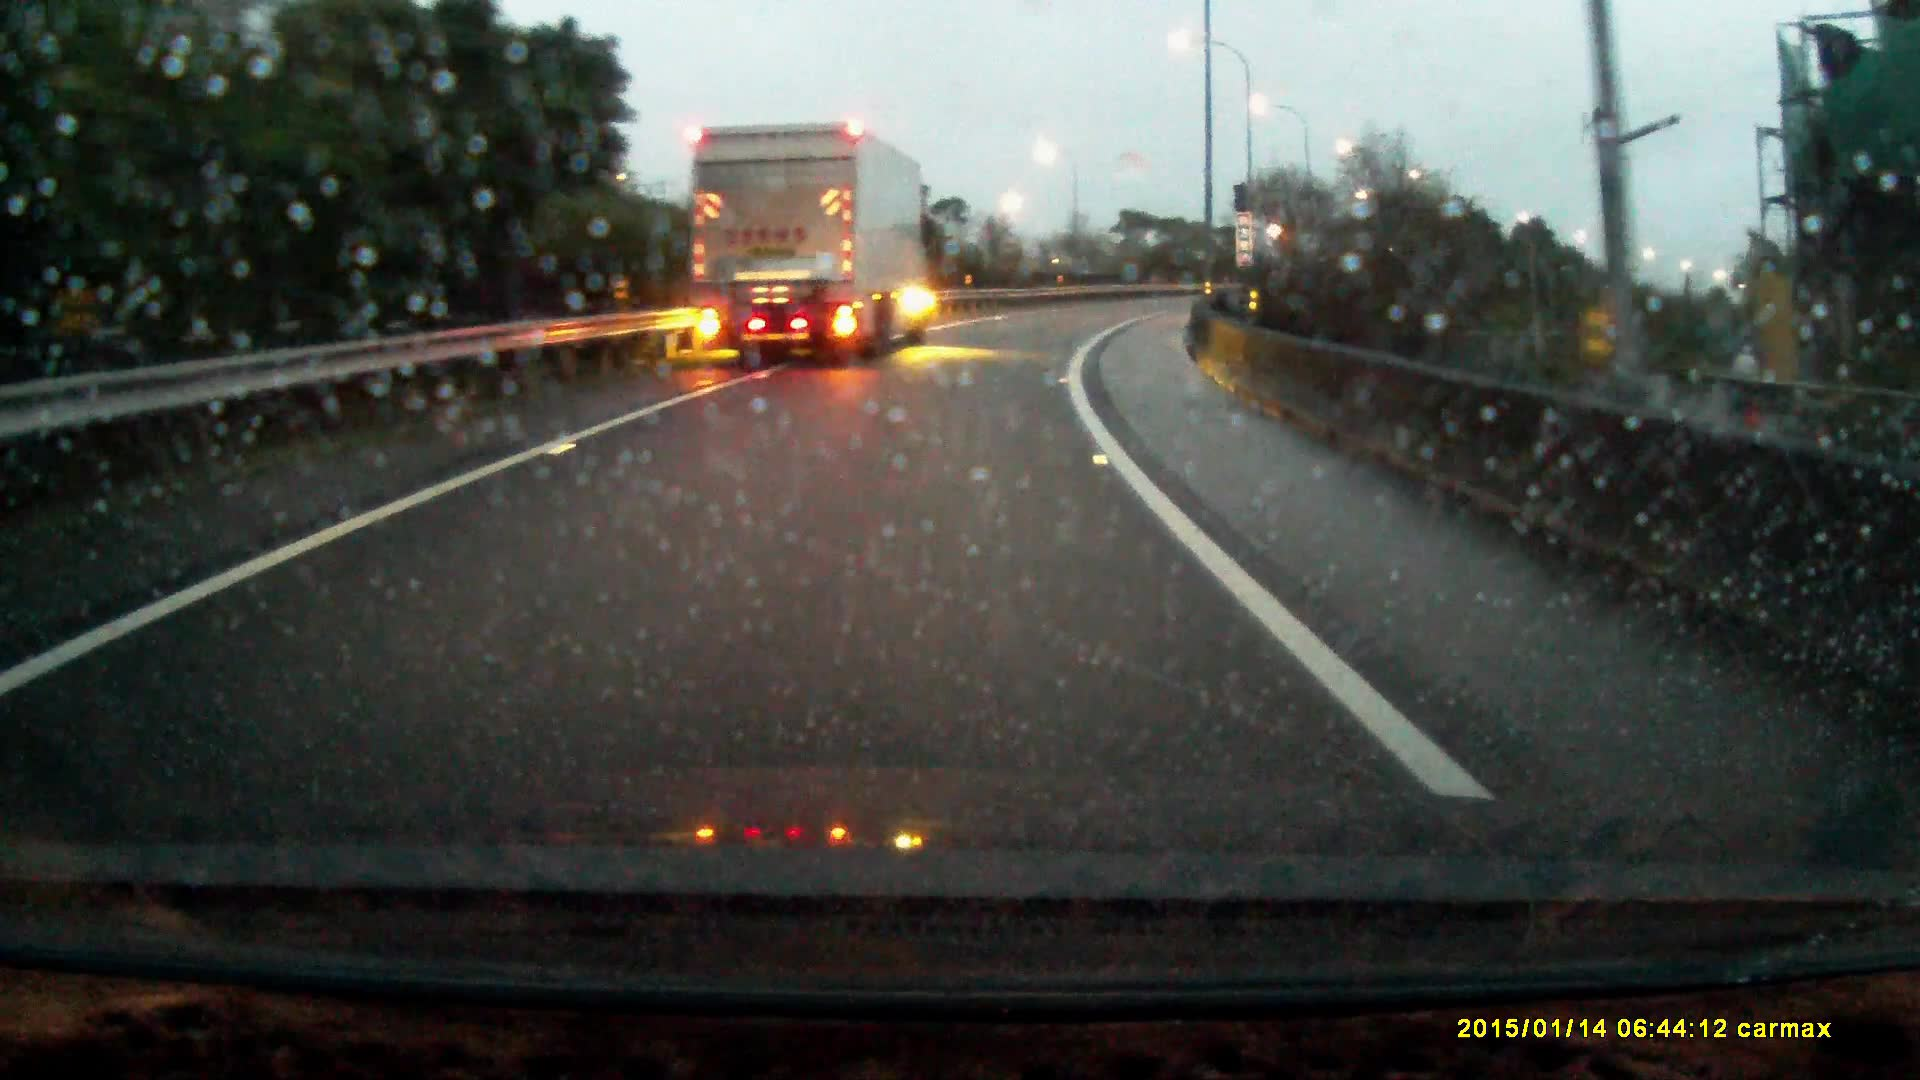vehicle: (687, 121, 936, 371)
